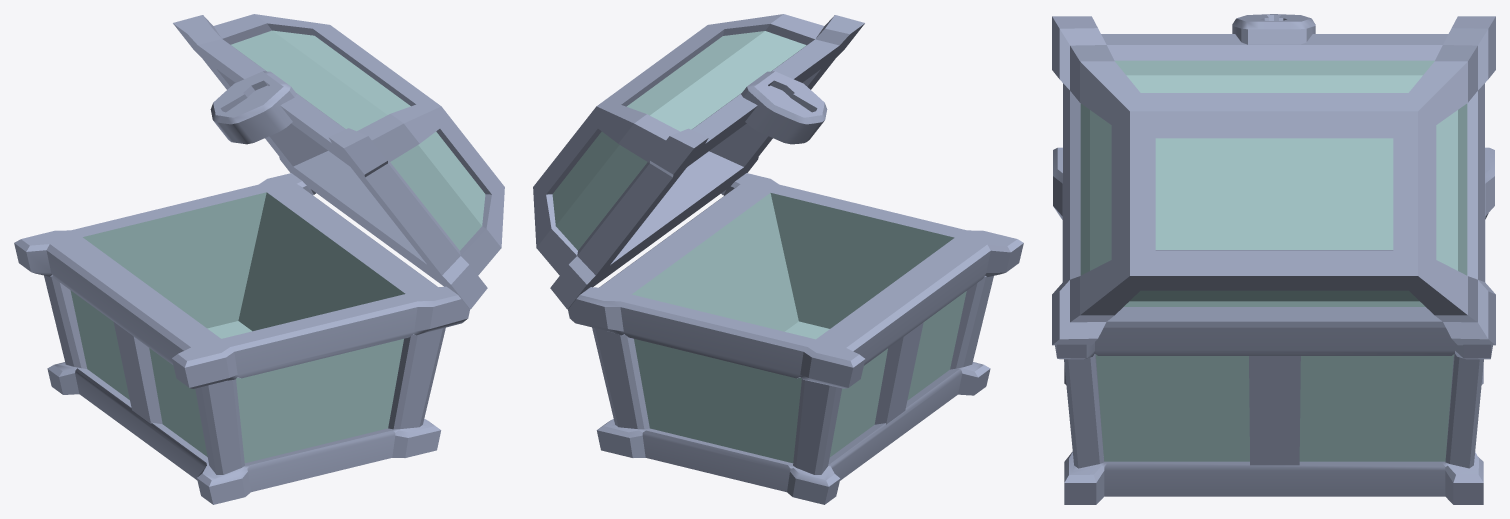
The model's file is openMagicChest.fbx.
3 views of the same model, side by side, from view 1: azimuth 30°, elevation 25°; view 2: azimuth 150°, elevation 25°; view 3: azimuth 270°, elevation 25° (orthographic). The views are drawn at different scales.
Parts seen in each view (by area): view 1: Frame, Sides1, LidFrame, LidSides, Lock; view 2: Frame, Sides1, LidFrame, LidSides, Lock; view 3: LidFrame, LidSides, Frame, Sides1, Lock.
Part boxes in pixels (bbox=[...]): Frame: bbox=[14, 173, 469, 504]; Sides1: bbox=[70, 192, 405, 463]; LidFrame: bbox=[173, 14, 504, 309]; LidSides: bbox=[231, 30, 485, 250]; Lock: bbox=[210, 71, 296, 144]; Frame: bbox=[568, 173, 1023, 504]; Sides1: bbox=[632, 192, 966, 463]; LidFrame: bbox=[533, 14, 864, 309]; LidSides: bbox=[552, 31, 806, 250]; Lock: bbox=[741, 71, 827, 144]; LidFrame: bbox=[1052, 16, 1495, 345]; LidSides: bbox=[1080, 60, 1467, 306]; Frame: bbox=[1053, 147, 1494, 504]; Sides1: bbox=[1095, 354, 1453, 461]; Lock: bbox=[1232, 14, 1315, 44].
Size of the model in its own units: 50.45 by 45.89 by 42.77.
